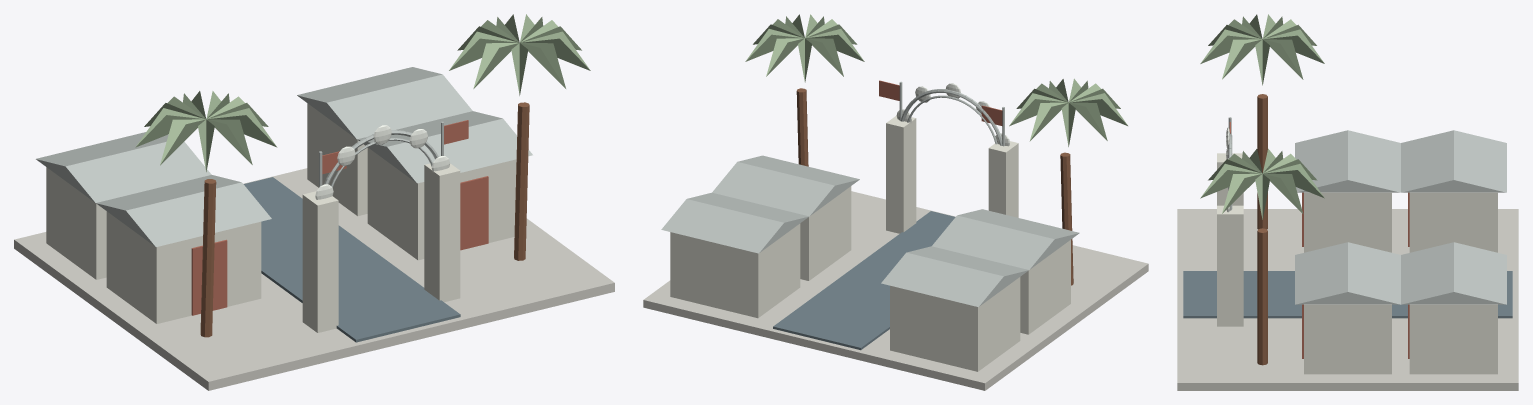
The model's file is dot-P07.glb.
The picture shows the model from 3 angles, left to right: view 1: azimuth 30°, elevation 25°; view 2: azimuth 150°, elevation 25°; view 3: azimuth 270°, elevation 25°; orthographic projection. The views are drawn at different scales.
Visible parts, largest first — view 1: pave; view 2: pave; view 3: pave.
Part boxes in pixels (<box>): pave: <box>14,14,614,390</box>; pave: <box>643,14,1148,390</box>; pave: <box>1177,14,1518,390</box>.
Size of the model in its own units: 6.48 by 3.35 by 5.01.
Materials: 1 (1 with a texture image).
